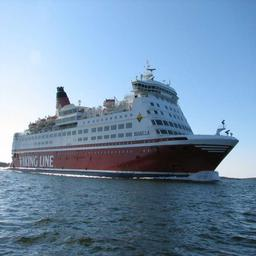Ship: (7, 78, 242, 183)
